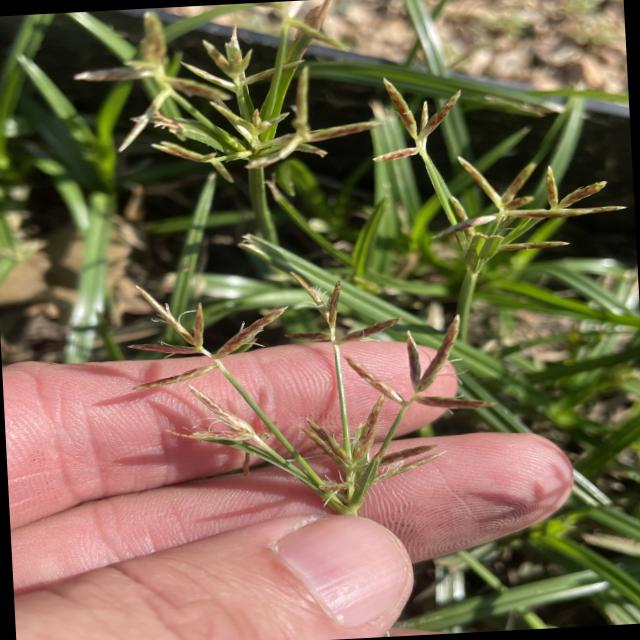cyperus: (101, 8, 640, 535)
